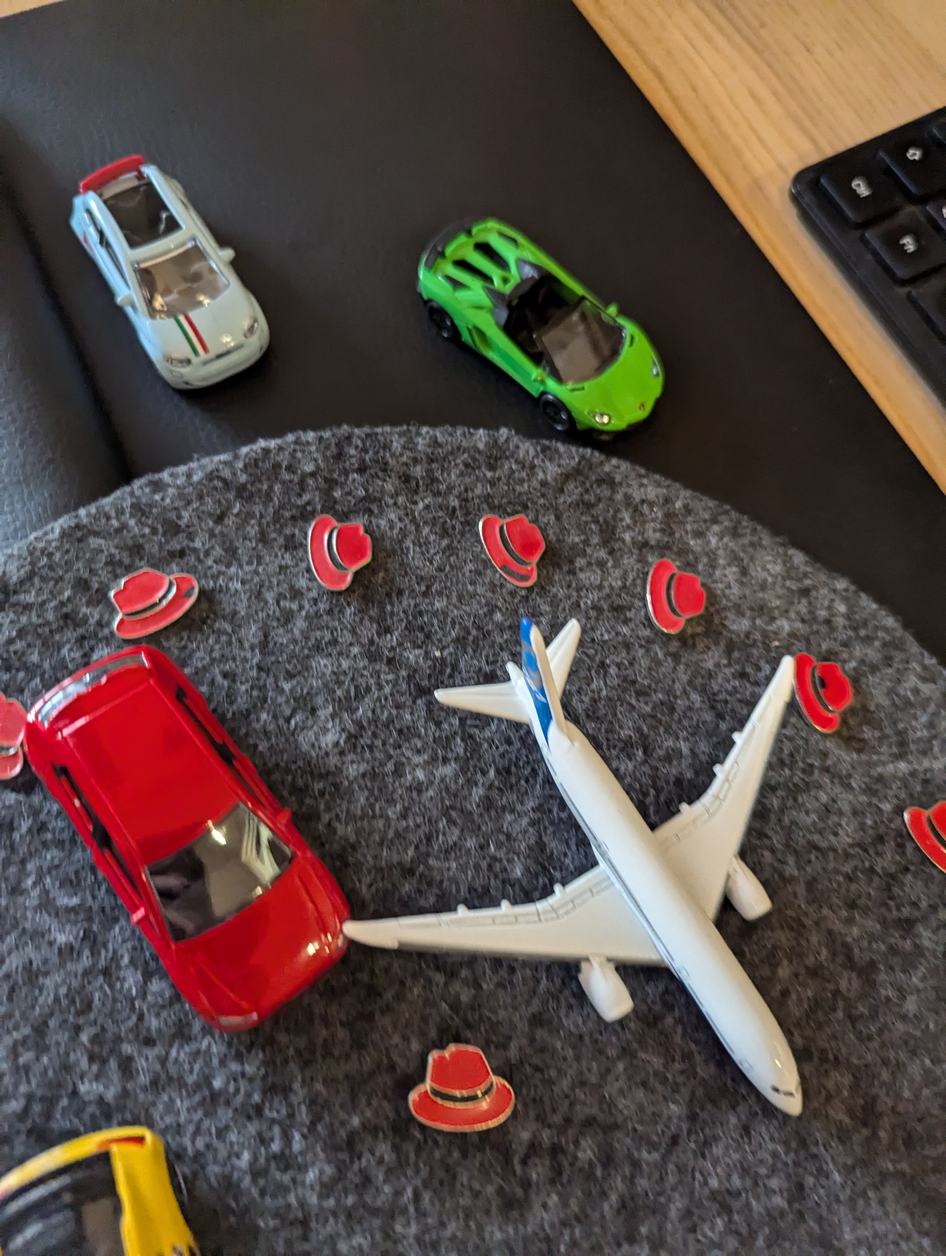Airplane: (323, 619, 871, 1129)
Car: (8, 638, 377, 1069), (392, 192, 676, 453), (59, 139, 295, 395)
Red-Hat: (387, 1029, 541, 1152), (87, 543, 217, 648), (449, 495, 563, 610), (766, 626, 868, 739), (295, 496, 381, 613), (628, 532, 711, 643), (880, 760, 946, 894)
Scratch: (489, 549, 551, 596), (807, 665, 845, 703), (171, 579, 202, 602)
